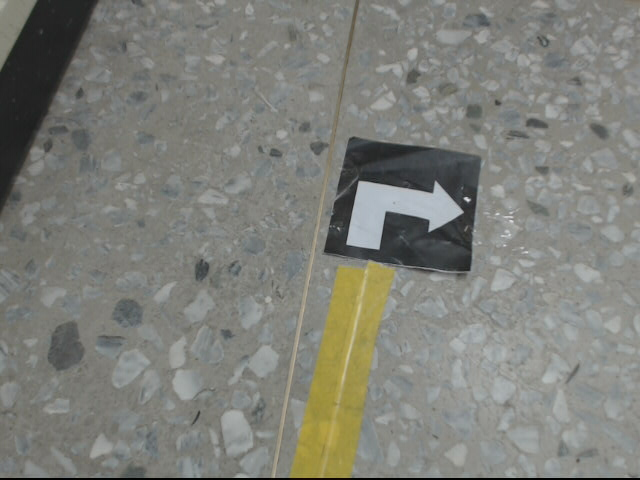right: (323, 134, 480, 276)
